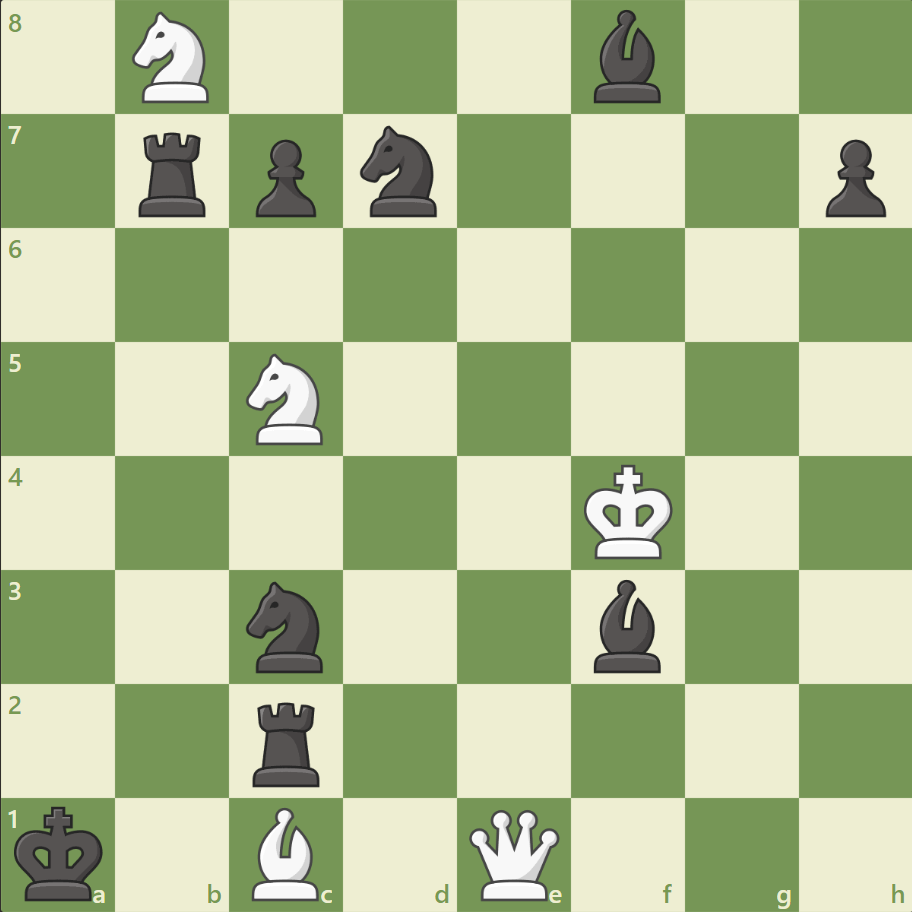B: (244, 801, 328, 904)
K: (579, 458, 679, 566)
N: (124, 7, 222, 110), (238, 348, 335, 450)
Q: (464, 804, 563, 903)
b: (585, 6, 669, 109), (585, 574, 669, 676)
k: (11, 798, 111, 906)
n: (351, 121, 449, 223), (238, 575, 335, 677)
p: (247, 132, 322, 223), (815, 132, 889, 223)
r: (246, 693, 329, 790), (133, 125, 215, 222)
